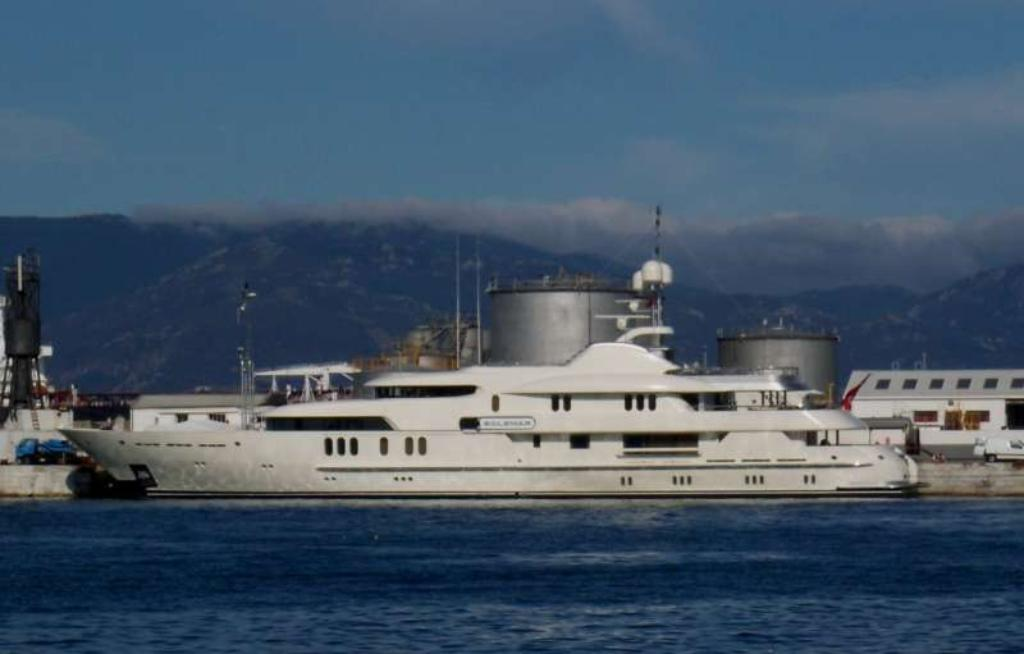PassengerShip: (37, 204, 939, 497)
